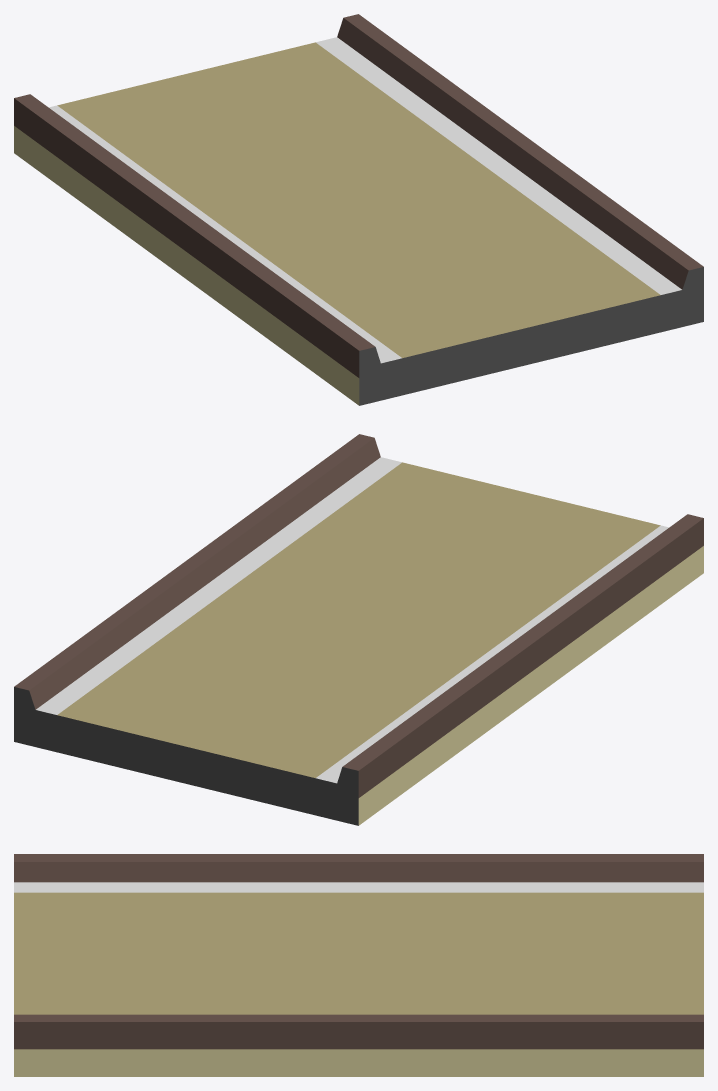
Rendered from ManRoad 2.fbx.
3 renders of one model, top to bottom at view 1: azimuth 30°, elevation 25°; view 2: azimuth 150°, elevation 25°; view 3: azimuth 270°, elevation 25°, orthographic.
Visible parts, largest first — view 1: Cube; view 2: Cube; view 3: Cube.
Boxes of the visible parts, <box> form: Cube: <box>14,14,703,405</box>; Cube: <box>14,434,703,825</box>; Cube: <box>14,854,703,1076</box>.
Bounding box in the file's own units: 645 × 98.46 × 1120.
